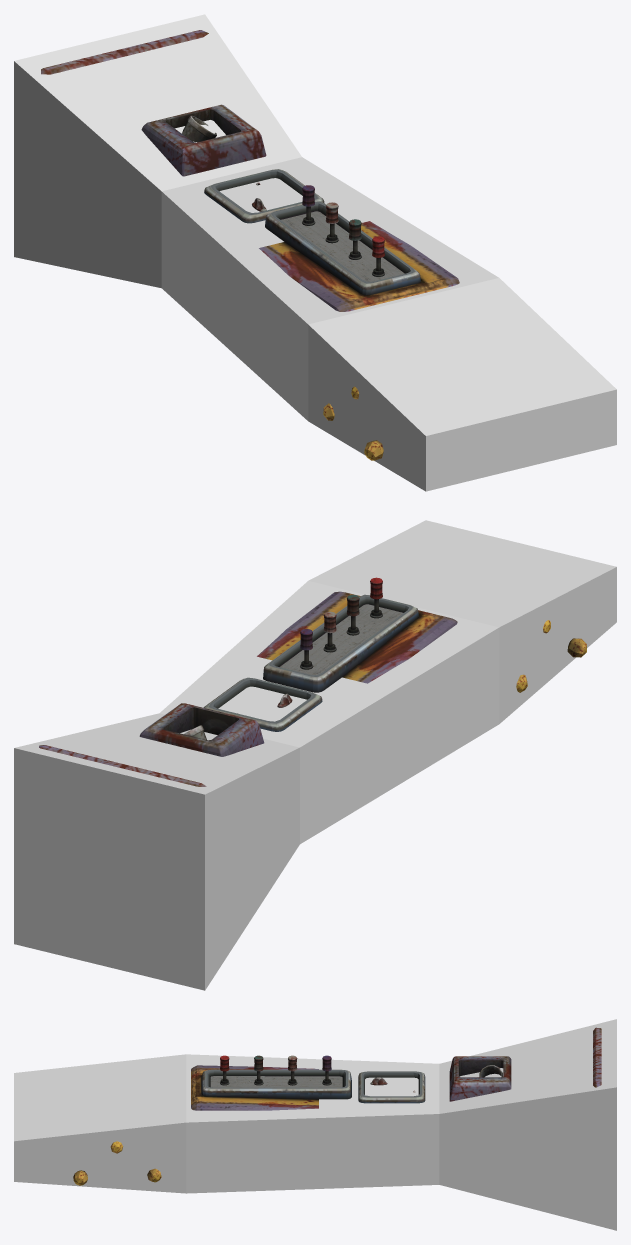
Rendered from flopper.glb.
3 views of the same model, one above another, from view 1: azimuth 30°, elevation 25°; view 2: azimuth 150°, elevation 25°; view 3: azimuth 270°, elevation 25° (orthographic). The views are drawn at different scales.
Visible parts, largest first — view 1: c_mesh, g_body, g_body_2, g_glass; view 2: c_mesh, g_body_2, g_body, g_glass; view 3: c_mesh, g_body_2, g_body, g_glass.
Part boxes in pixels (x1,y1,x2,y2): c_mesh: (14, 14, 616, 491); g_body: (41, 30, 459, 311); g_body_2: (204, 169, 448, 460); g_glass: (281, 211, 404, 281); c_mesh: (14, 520, 616, 990); g_body_2: (203, 577, 586, 731); g_body: (39, 591, 457, 786); g_glass: (280, 604, 403, 675); c_mesh: (14, 1019, 616, 1230); g_body_2: (73, 1055, 425, 1185); g_body: (191, 1027, 601, 1110); g_glass: (210, 1076, 342, 1087).
Bounding box in the file's own units: 0.7346 × 0.6191 × 2.36.
Materials: 3 (3 with a texture image).
